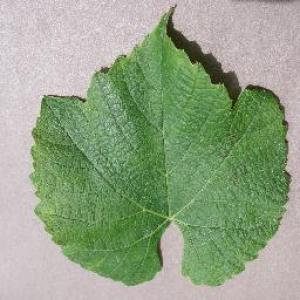Folha: (28, 2, 292, 287)
